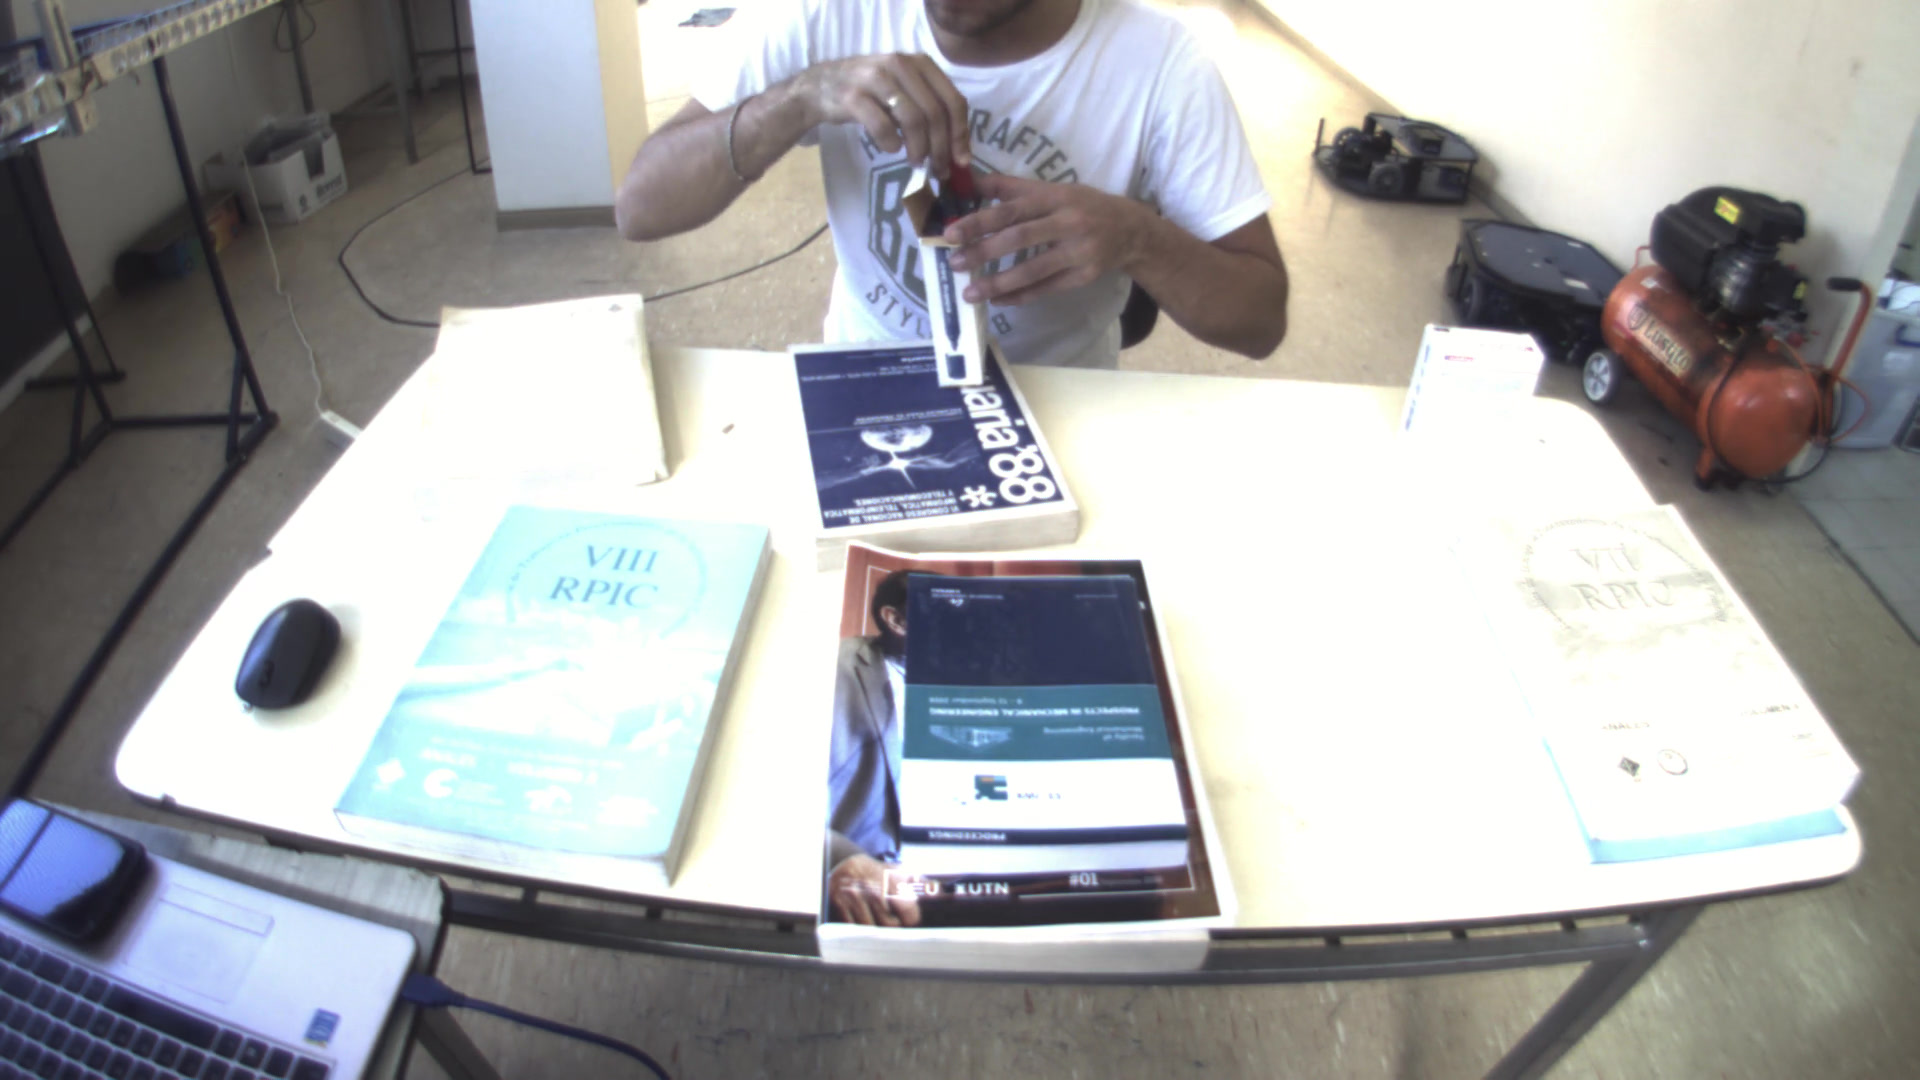hand: (936, 165, 1158, 324), (822, 42, 975, 162)
